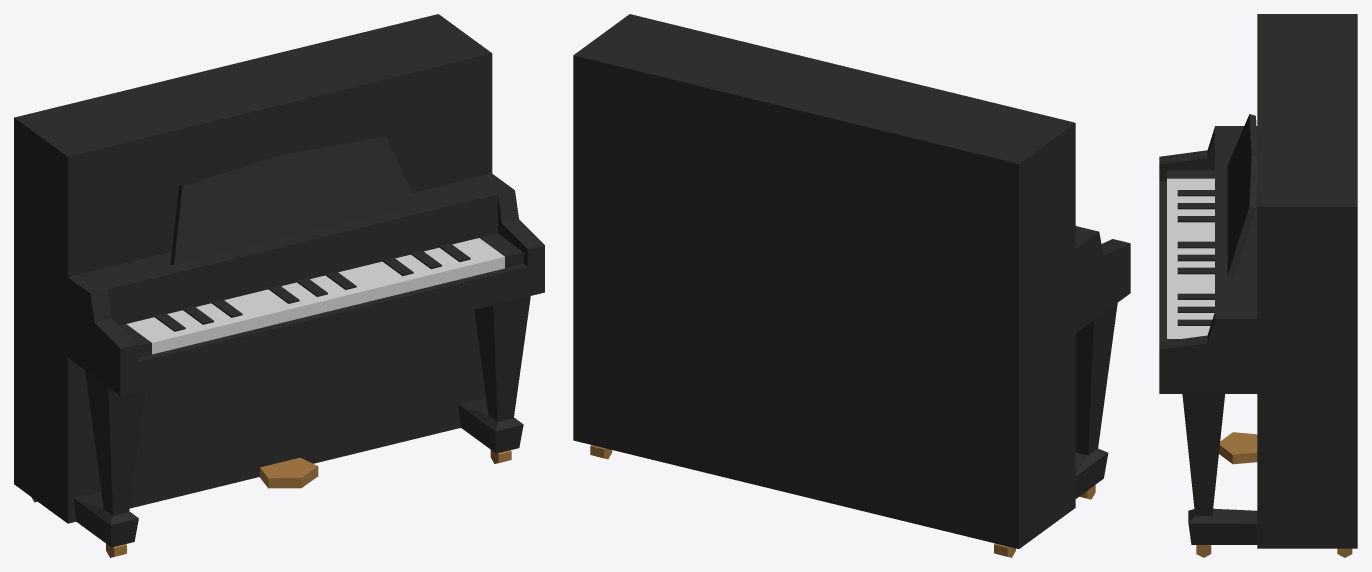
File: music_pianino.fbx
3 renders of one model, left to right at view 1: azimuth 30°, elevation 25°; view 2: azimuth 150°, elevation 25°; view 3: azimuth 270°, elevation 25°, orthographic. The views are drawn at different scales.
Parts seen in each view (by area): view 1: music_pianino; view 2: music_pianino; view 3: music_pianino.
Boxes of the visible parts, x1=… form: music_pianino: x1=14, y1=14, x2=544, y2=557; music_pianino: x1=573, y1=14, x2=1130, y2=557; music_pianino: x1=1159, y1=14, x2=1357, y2=557.
Bounding box in the file's own units: 200 × 173 × 86.73.
